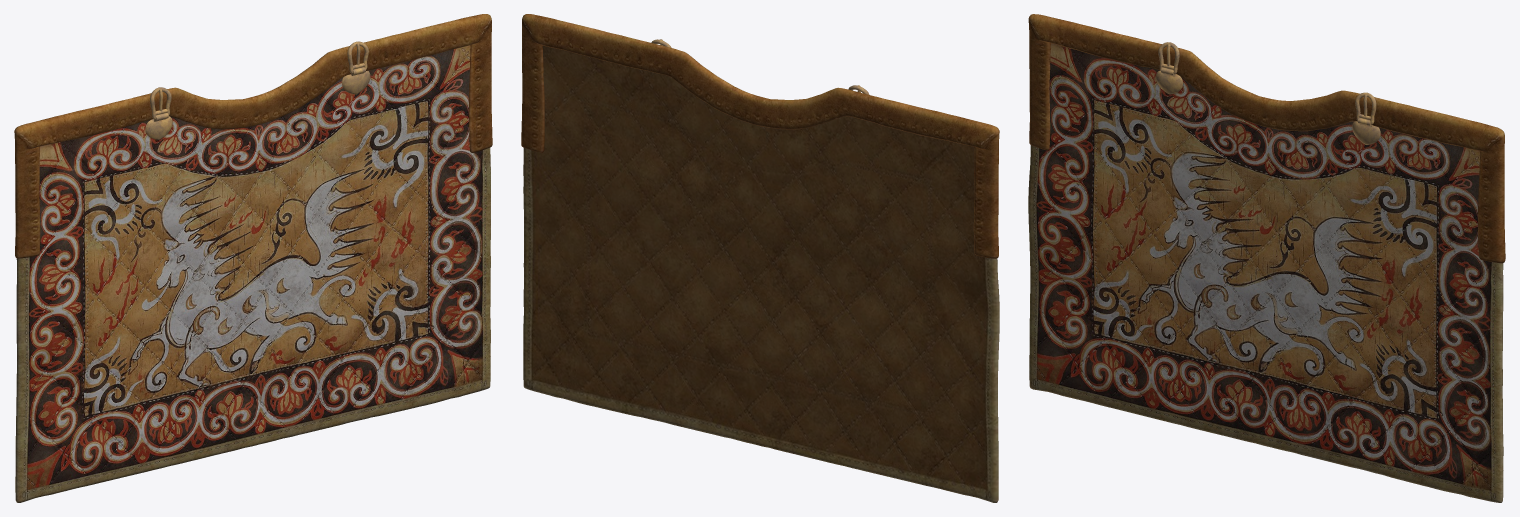
File: cheonma-v1.glb
3 renders of one model, left to right at view 1: azimuth 30°, elevation 25°; view 2: azimuth 150°, elevation 25°; view 3: azimuth 330°, elevation 25°, orthographic.
Visible parts, largest first — view 1: BakeSet_2, BakeSet_1, BakeSet_7, BakeSet_3; view 2: BakeSet_2, BakeSet_1; view 3: BakeSet_2, BakeSet_1, BakeSet_7, BakeSet_3.
Boxes of the visible parts, x1,y1,x2,y2 form: BakeSet_2: [15, 45, 490, 502]; BakeSet_1: [14, 14, 492, 258]; BakeSet_7: [145, 71, 370, 139]; BakeSet_3: [150, 41, 368, 119]; BakeSet_2: [523, 45, 999, 502]; BakeSet_1: [521, 14, 999, 258]; BakeSet_2: [1028, 43, 1503, 502]; BakeSet_1: [1028, 14, 1505, 263]; BakeSet_7: [1155, 70, 1380, 144]; BakeSet_3: [1158, 42, 1376, 124].
Bounding box in the file's own units: 2.6 × 2 × 0.083.
Materials: 7 (7 with a texture image).
